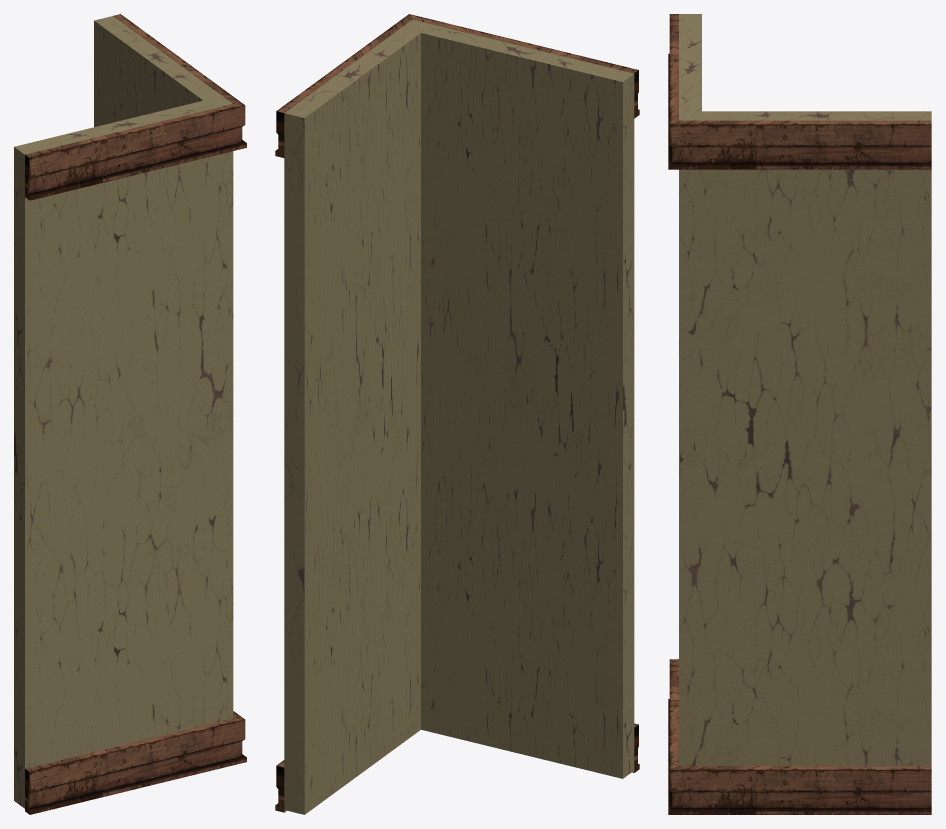
The model's file is Wall_CornerOut_1m_C.fbx.
3 renders of one model, left to right at view 1: azimuth 30°, elevation 25°; view 2: azimuth 150°, elevation 25°; view 3: azimuth 270°, elevation 25°, orthographic. The views are drawn at different scales.
Visible parts, largest first — view 1: Wall_CornerOut_1m_A.001; view 2: Wall_CornerOut_1m_A.001; view 3: Wall_CornerOut_1m_A.001.
Part boxes in pixels (x1=…): Wall_CornerOut_1m_A.001: x1=14, y1=14, x2=246, y2=814; Wall_CornerOut_1m_A.001: x1=275, y1=14, x2=639, y2=814; Wall_CornerOut_1m_A.001: x1=668, y1=14, x2=931, y2=814.
Bounding box in the file's own units: 1.15 × 3.31 × 1.15.
